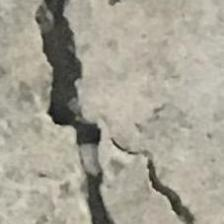Crack: (29, 1, 218, 224)
